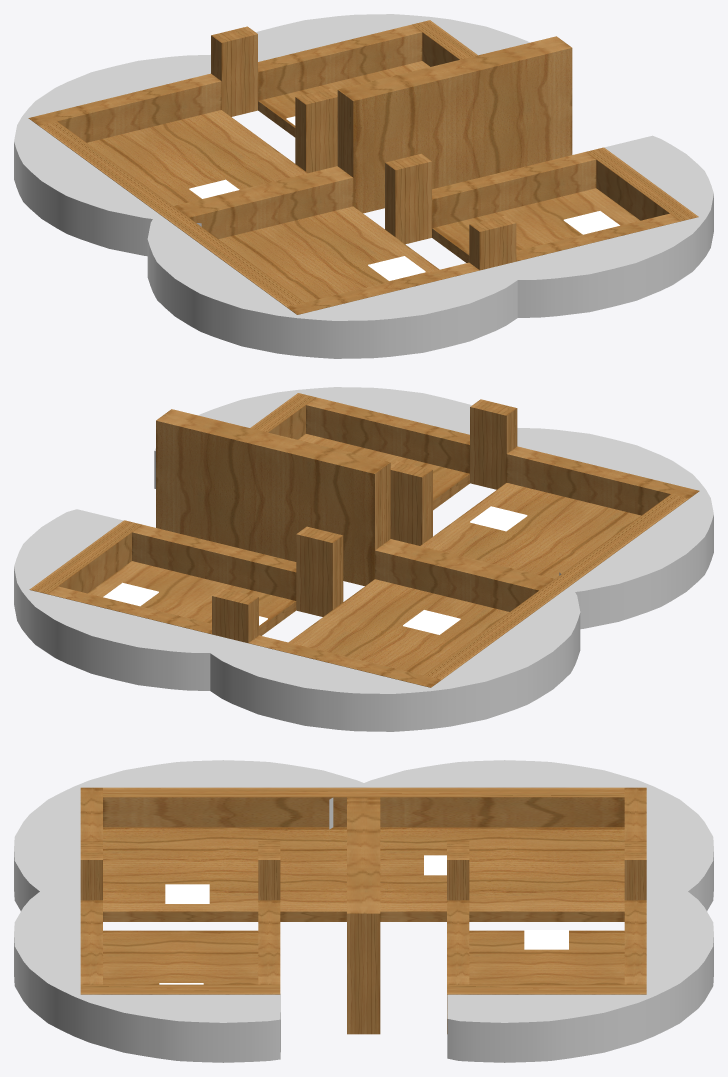
3 views of the same model, one above another, from view 1: azimuth 30°, elevation 25°; view 2: azimuth 150°, elevation 25°; view 3: azimuth 270°, elevation 25° (orthographic). The views are drawn at different scales.
Visible parts, largest first — view 1: Wall_Out_line__2_1, Wall_Out_line_cylinder001, Wall_Out_line_cylinder003, Wall_Out_line_cylinder, Floor_1 (×2), Floor_2, Wall_Out_line__4 (×2), Wall_Out_line__1_1, Wall_Out_line__5 (×2), Wall_Out_line__1, Wall_Out_line__1_2, Wall_Out_line_cylinder002 (+9 smaller); view 2: Wall_Out_line__2_1, Wall_Out_line_cylinder, Wall_Out_line_cylinder002, Floor_1 (×2), Wall_Out_line_cylinder001, Floor_2, Wall_Out_line__2 (×2), Wall_Out_line__6 (×2), Wall_Out_line__5 (×2), Wall_Out_line__1_1, Wall_Out_line__3, Wall_Out_line_cylinder003 (+8 smaller); view 3: Floor_1 (×2), Wall_Out_line__5 (×2), Wall_Out_line_cylinder002, Wall_Out_line_cylinder003, Floor_2, Wall_Out_line_cylinder, Wall_Out_line_cylinder001, Floor_3, Wall_Out_line__2_1, Wall_Out_line__2 (×2), Wall_Out_line__6 (×2), Wall_Out_line__4 (×2) (+8 smaller).
Boxes of the visible parts, bbox=[...] form: Wall_Out_line__2_1: bbox=[337, 36, 572, 213]; Wall_Out_line_cylinder001: bbox=[147, 216, 517, 358]; Wall_Out_line_cylinder003: bbox=[494, 135, 713, 317]; Wall_Out_line_cylinder: bbox=[14, 55, 210, 256]; Floor_1 (×2): bbox=[87, 61, 429, 205]; Floor_2: bbox=[218, 206, 439, 302]; Wall_Out_line__4 (×2): bbox=[28, 73, 431, 244]; Wall_Out_line__1_1: bbox=[173, 166, 353, 238]; Wall_Out_line__5 (×2): bbox=[39, 121, 516, 306]; Wall_Out_line__1: bbox=[258, 24, 422, 100]; Wall_Out_line__1_2: bbox=[432, 152, 596, 228]; Wall_Out_line_cylinder002: bbox=[210, 14, 529, 61]; Wall_Out_line__2_1: bbox=[156, 409, 390, 585]; Wall_Out_line_cylinder: bbox=[210, 572, 580, 731]; Wall_Out_line_cylinder002: bbox=[14, 509, 233, 690]; Floor_1 (×2): bbox=[88, 561, 509, 675]; Wall_Out_line_cylinder001: bbox=[517, 428, 713, 629]; Floor_2: bbox=[420, 483, 640, 578]; Wall_Out_line__2 (×2): bbox=[29, 520, 296, 600]; Wall_Out_line__6 (×2): bbox=[212, 397, 469, 642]; Wall_Out_line__5 (×2): bbox=[423, 399, 688, 679]; Wall_Out_line__1_1: bbox=[375, 539, 554, 611]; Wall_Out_line__3: bbox=[506, 446, 699, 515]; Wall_Out_line_cylinder003: bbox=[154, 387, 471, 488]; Floor_1 (×2): bbox=[380, 827, 624, 984]; Wall_Out_line__5 (×2): bbox=[80, 787, 624, 900]; Wall_Out_line_cylinder002: bbox=[447, 888, 713, 1062]; Wall_Out_line_cylinder003: bbox=[14, 888, 280, 1062]; Floor_2: bbox=[103, 827, 346, 921]; Wall_Out_line_cylinder: bbox=[329, 760, 713, 910]; Wall_Out_line_cylinder001: bbox=[14, 760, 363, 910]; Floor_3: bbox=[103, 930, 258, 984]; Wall_Out_line__2_1: bbox=[347, 801, 380, 1034]; Wall_Out_line__2 (×2): bbox=[447, 900, 646, 1033]; Wall_Out_line__6 (×2): bbox=[80, 841, 646, 984]; Wall_Out_line__4 (×2): bbox=[258, 787, 646, 900].
Bounding box in the file's own units: 5602 × 1200 × 6306.
5 materials, 2 textured.
